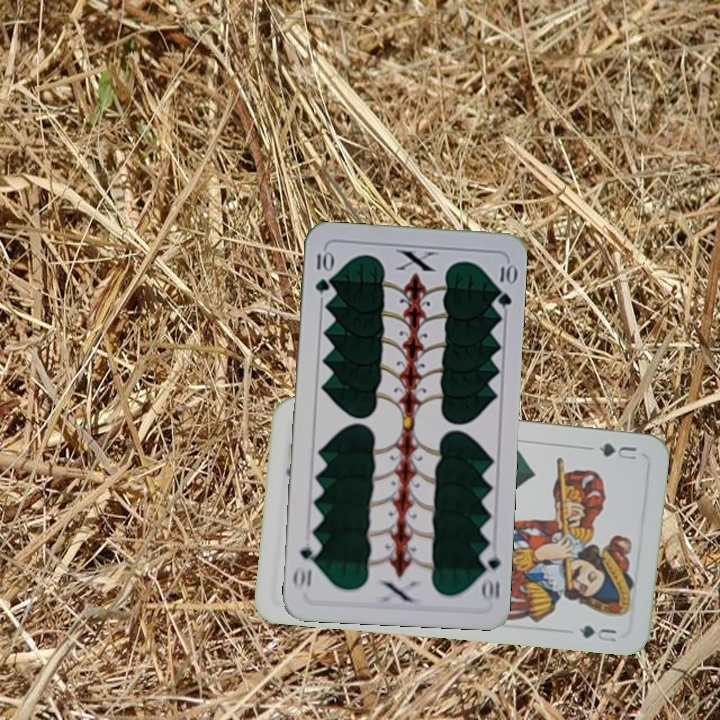G10: (476, 545, 503, 604), (311, 246, 333, 295)
GU: (584, 439, 639, 463)
